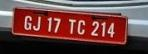1: (45, 15, 52, 31), (99, 20, 105, 36)
2: (89, 19, 98, 36)
4: (106, 20, 115, 37)
7: (51, 16, 60, 33)
C: (75, 18, 86, 34)
G: (22, 14, 31, 29)
J: (32, 15, 40, 30)
T: (67, 17, 75, 33)
